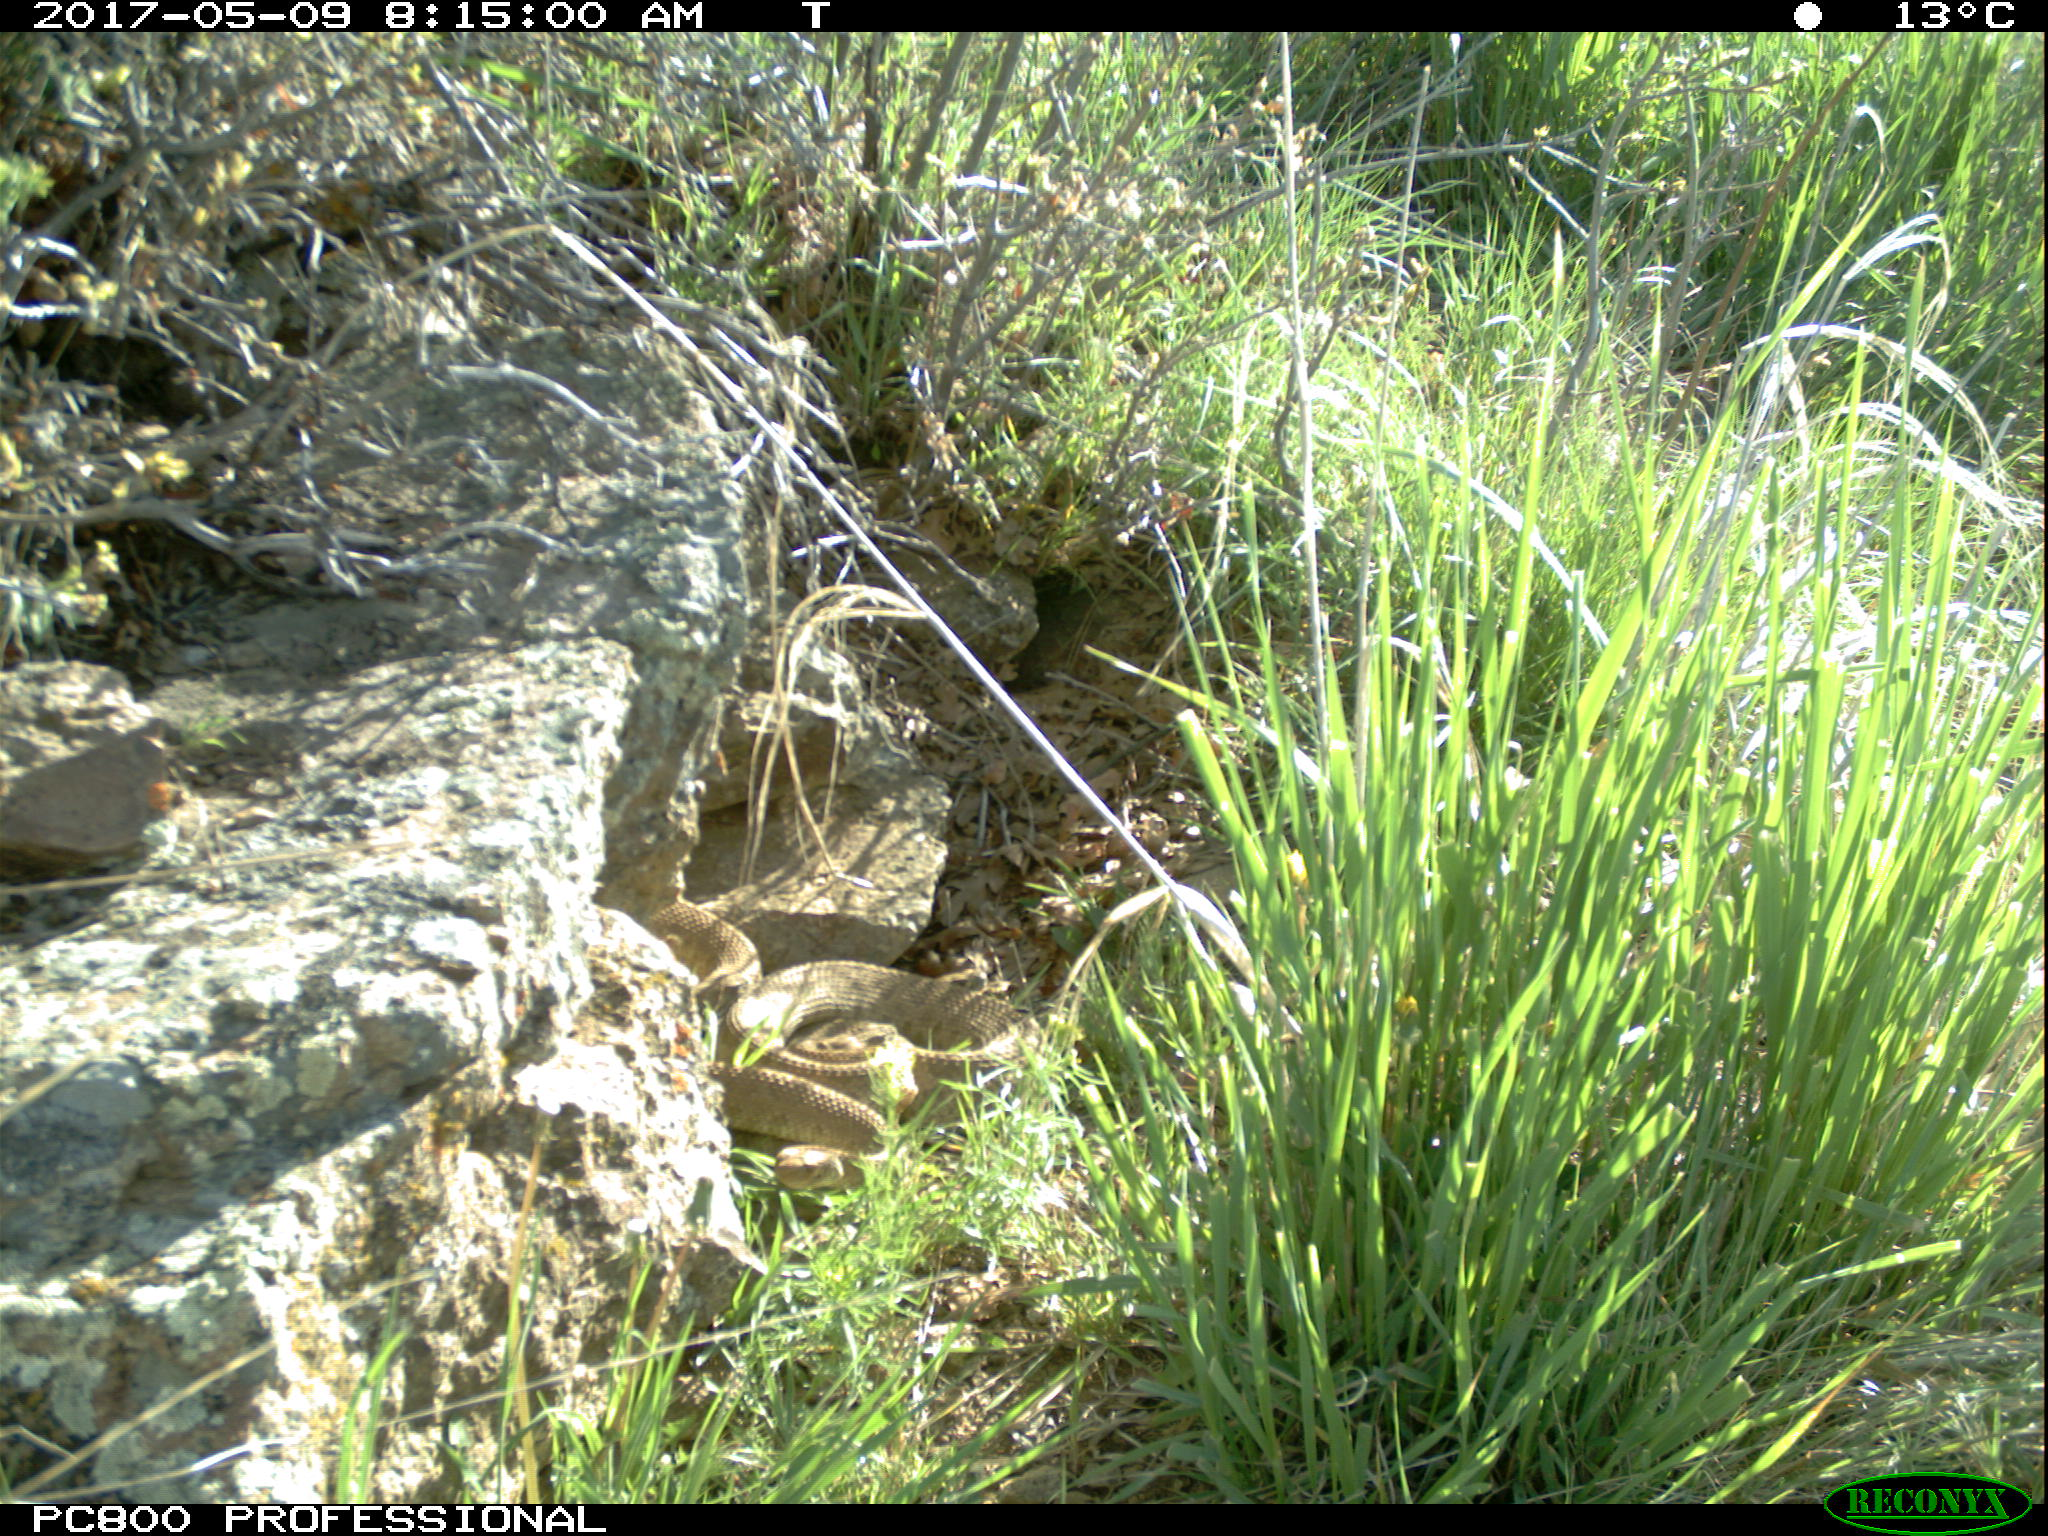snake: (726, 962, 1032, 1187), (634, 895, 761, 1018)
